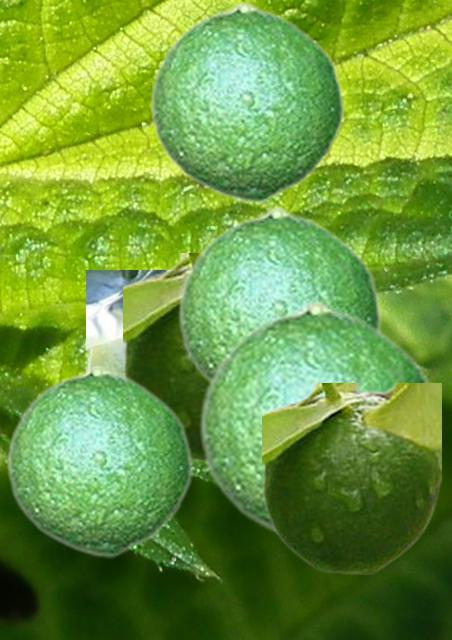dalandan: (197, 299, 435, 539), (148, 0, 344, 203), (176, 205, 381, 384), (5, 364, 192, 557), (262, 383, 440, 573), (123, 253, 206, 462), (86, 270, 161, 372)
